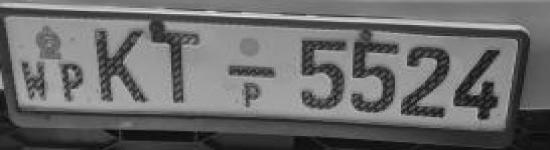-: (222, 62, 278, 81)
2: (401, 43, 449, 121)
4: (452, 43, 506, 124)
5: (294, 33, 352, 113), (350, 38, 399, 115)
K: (94, 26, 149, 103)
P: (56, 60, 87, 104)
T: (147, 25, 206, 106)
W: (18, 59, 51, 103)
